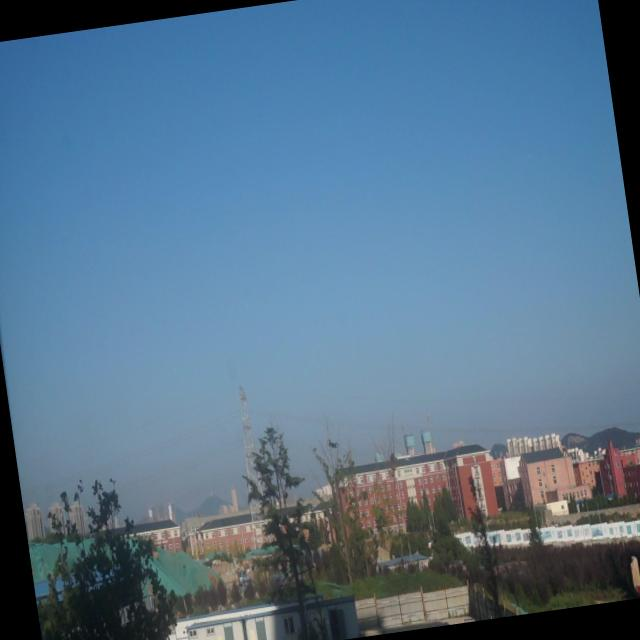drone: (324, 433, 344, 456)
